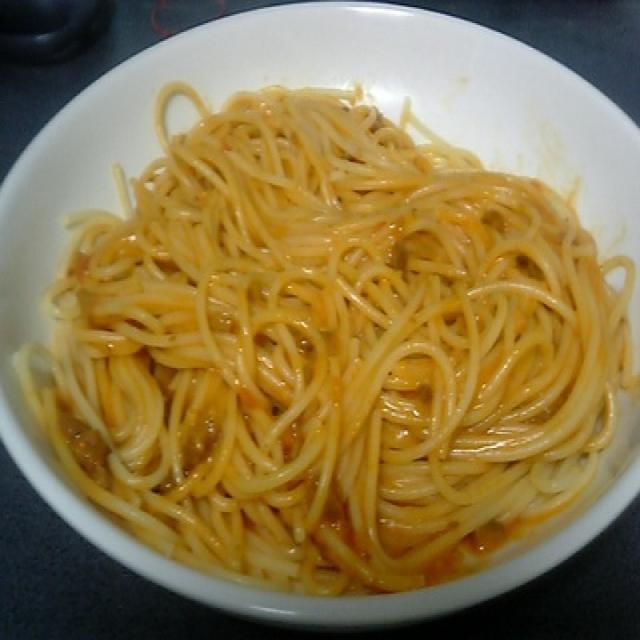Pasta: (34, 70, 618, 590)
